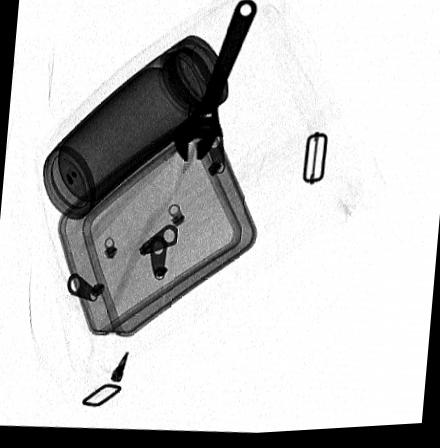Wrench: (173, 0, 260, 165)
